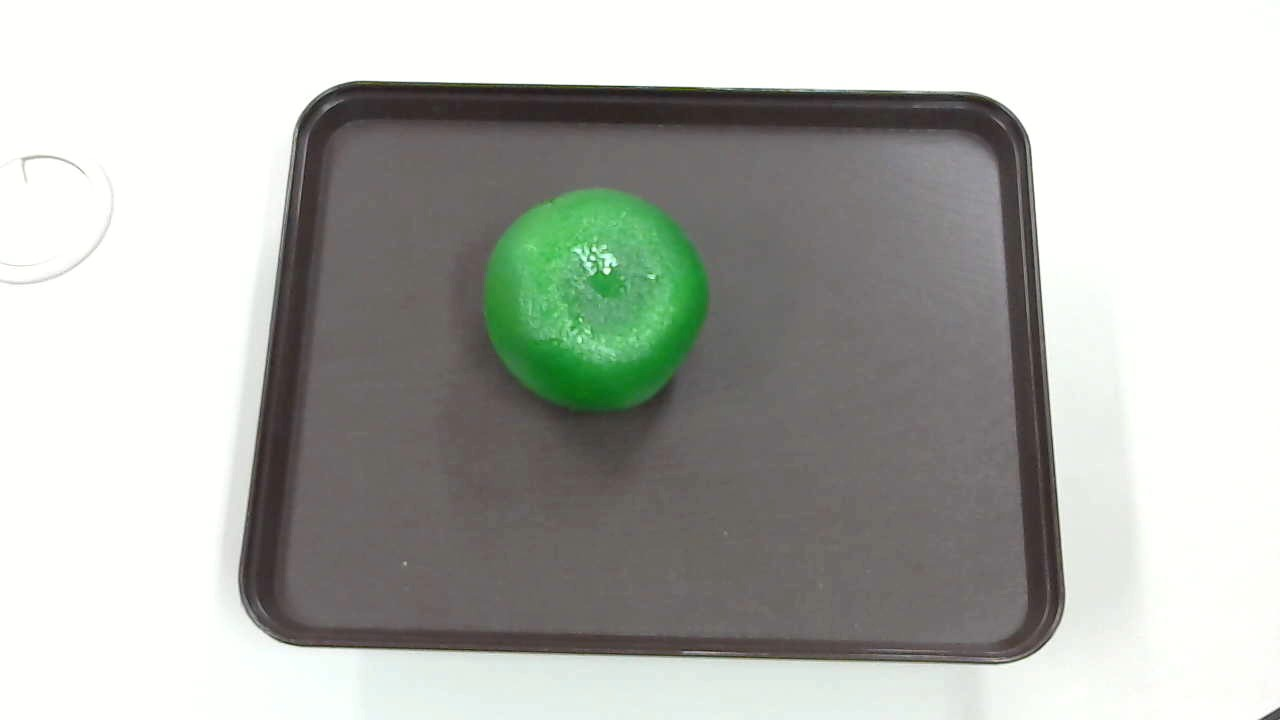green orange: (476, 185, 713, 420)
